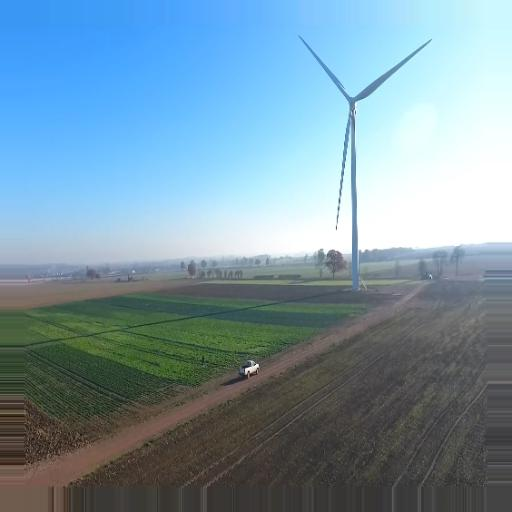wind turbine: (298, 33, 433, 294)
